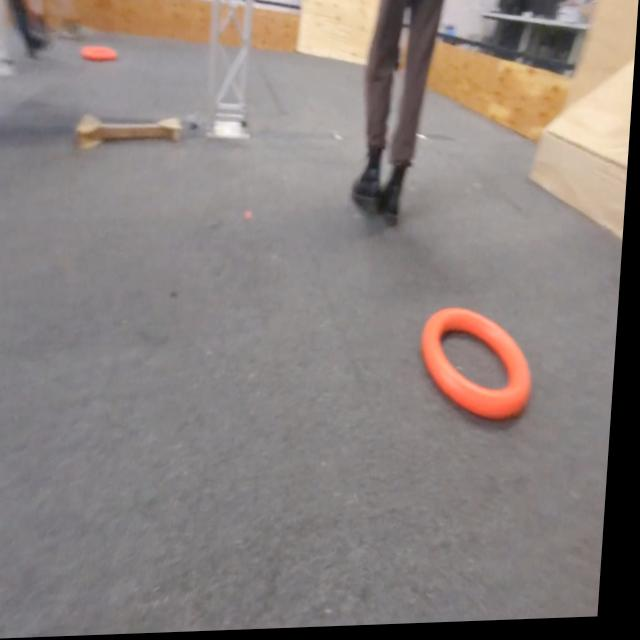note: (421, 311, 542, 432), (78, 46, 121, 66)
